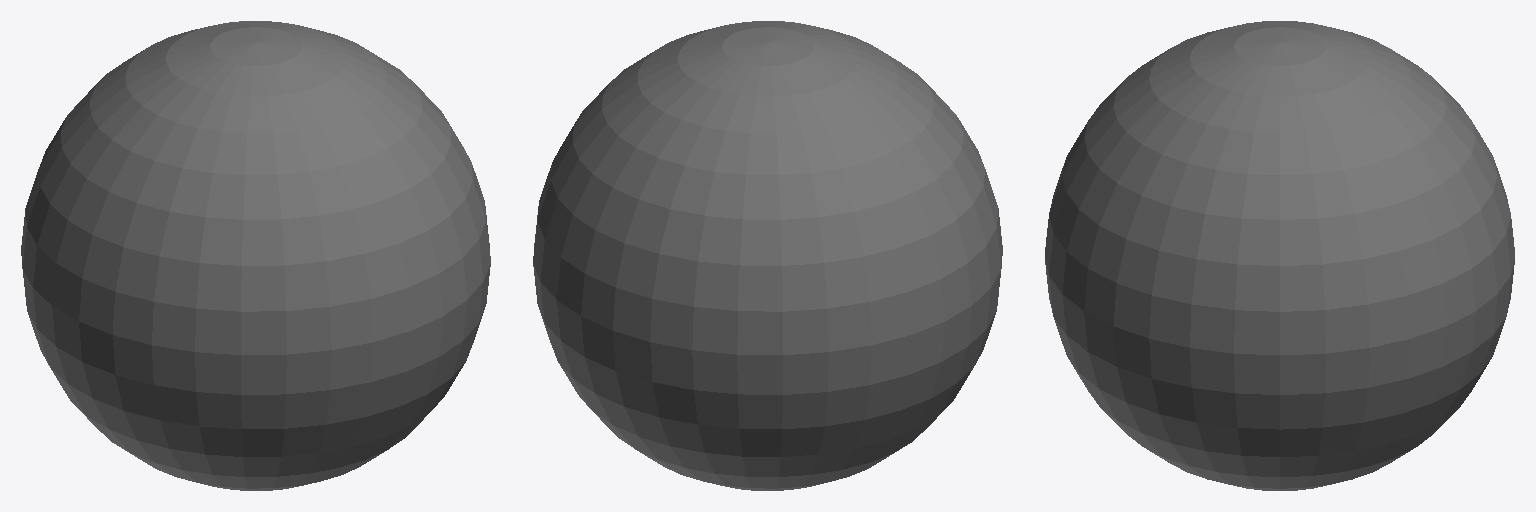
File: waterball.obj
The picture shows the model from 3 angles: view 1: azimuth 30°, elevation 25°; view 2: azimuth 150°, elevation 25°; view 3: azimuth 270°, elevation 25°; orthographic projection.
Parts seen in each view (by area): view 1: Sphere; view 2: Sphere; view 3: Sphere.
Boxes of the visible parts, x1=… form: Sphere: x1=21, y1=21, x2=490, y2=490; Sphere: x1=533, y1=21, x2=1002, y2=490; Sphere: x1=1045, y1=21, x2=1514, y2=490.
Size of the model in its own units: 2 by 2 by 2.